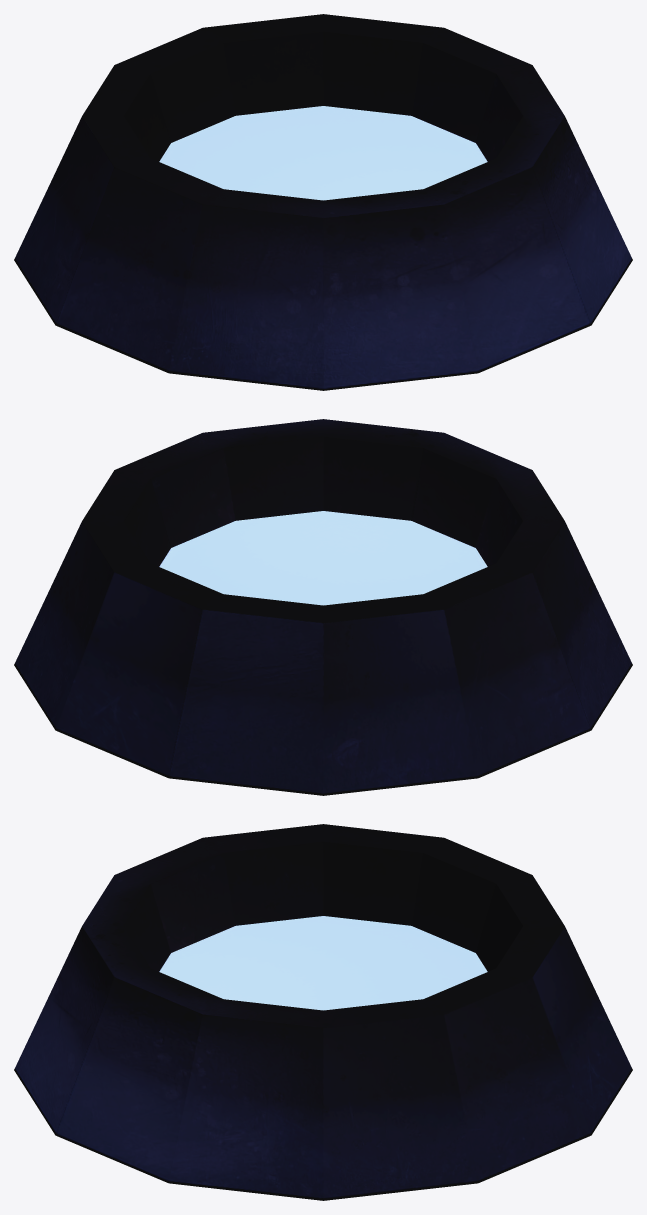
File: hologram.glb
3 renders of one model, top to bottom at view 1: azimuth 30°, elevation 25°; view 2: azimuth 150°, elevation 25°; view 3: azimuth 270°, elevation 25°, orthographic.
Parts seen in each view (by area): view 1: Hologram_Base; view 2: Hologram_Base; view 3: Hologram_Base.
Boxes of the visible parts, bbox=[...] form: Hologram_Base: bbox=[14, 14, 632, 390]; Hologram_Base: bbox=[14, 419, 632, 795]; Hologram_Base: bbox=[14, 824, 632, 1200].
Bounding box in the file's own units: 0.2152 × 0.0552 × 0.2152.
Materials: 2 (2 with a texture image).
